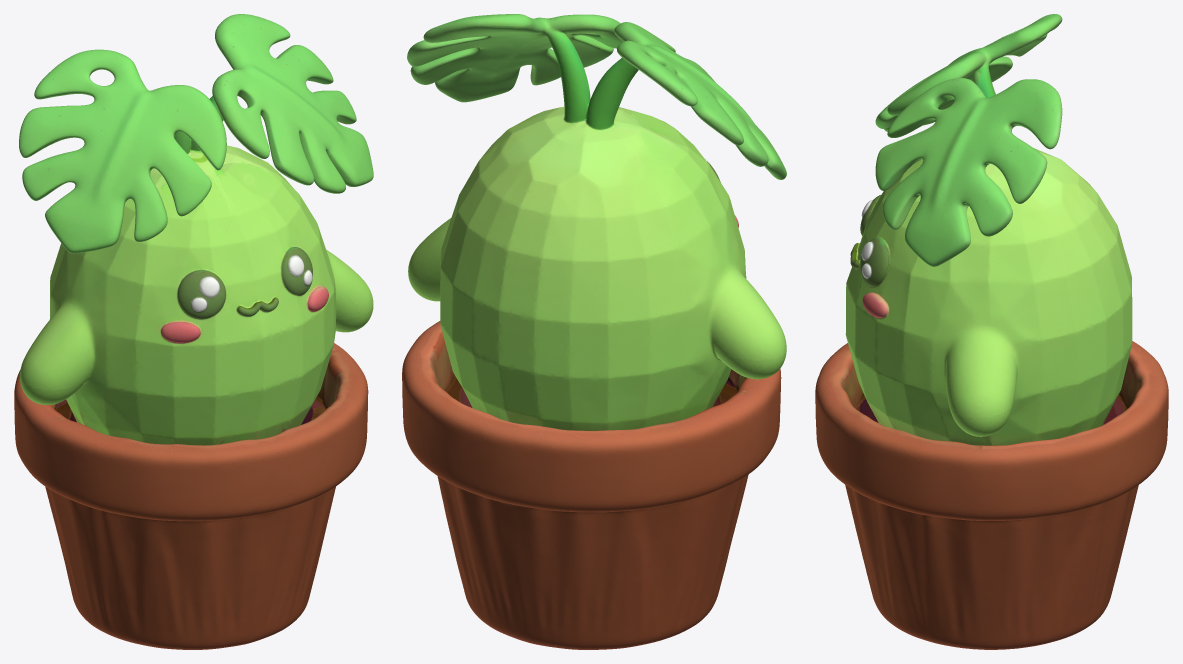
File: moni_3d_v1.glb
3 views of the same model, side by side, from view 1: azimuth 30°, elevation 25°; view 2: azimuth 150°, elevation 25°; view 3: azimuth 270°, elevation 25° (orthographic). The views are drawn at different scales.
Bounding box in the file's own units: 1.24 × 1.9 × 1.1.
Materials: 1 (1 with a texture image).
